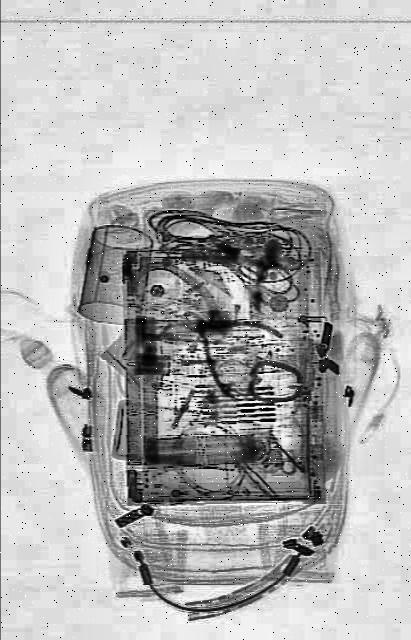Pliers: (165, 268, 283, 418)
